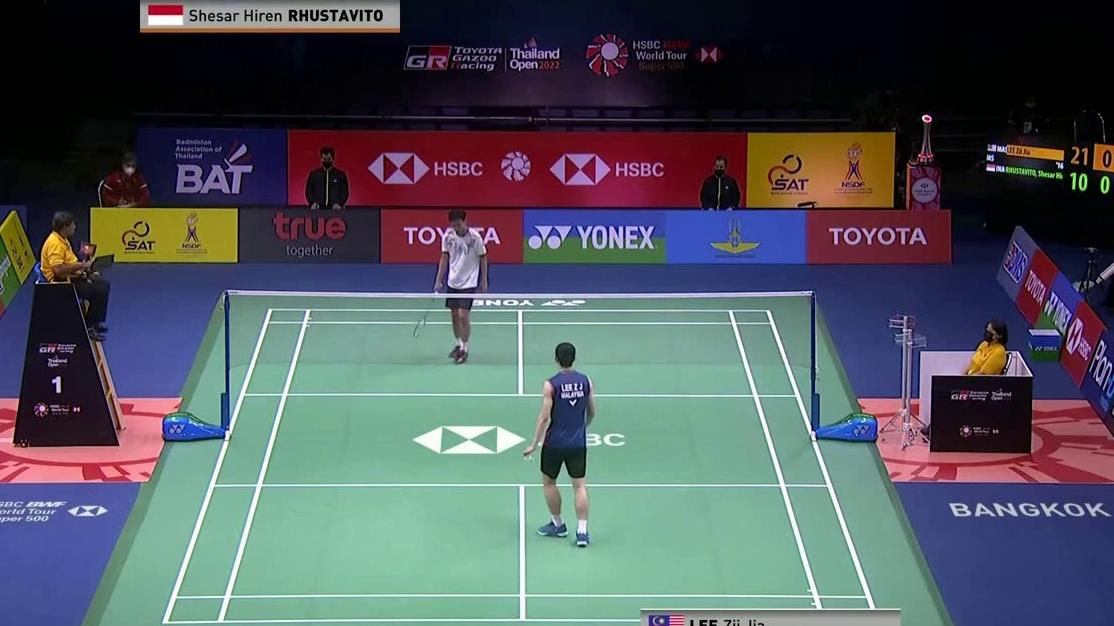racket: (412, 286, 442, 338)
shuttle: (523, 453, 535, 462)
